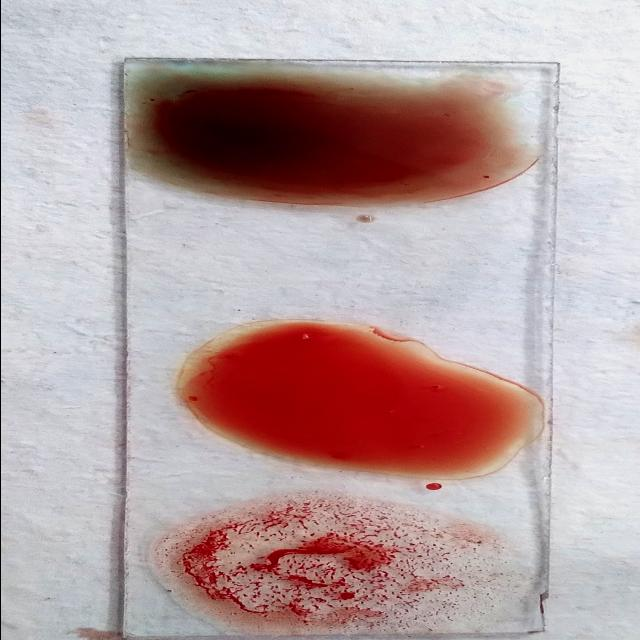D: (159, 510, 509, 636)
